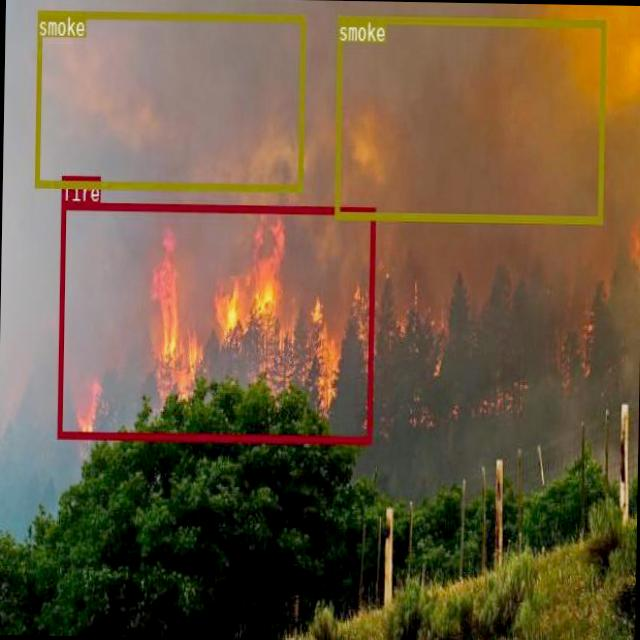fire: (56, 201, 374, 442)
smoke: (333, 14, 605, 222), (34, 9, 304, 190)
